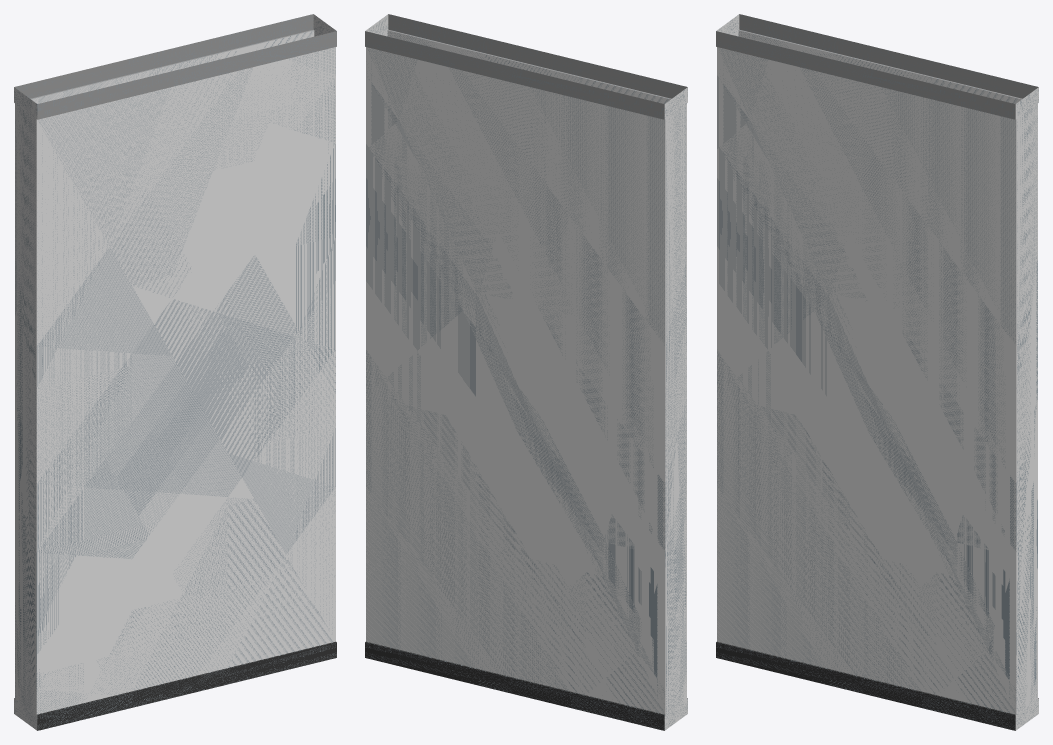
Rendered from BlockWall_ds_plinth_2x4x025.dae.
3 views of the same model, side by side, from view 1: azimuth 30°, elevation 25°; view 2: azimuth 150°, elevation 25°; view 3: azimuth 330°, elevation 25° (orthographic).
Parts seen in each view (by area): view 1: group_0 (×4); view 2: group_0 (×4); view 3: group_0 (×4).
Part boxes in pixels (x1,y1,x2,y2): group_0 (×4): (14, 14, 336, 730); group_0 (×4): (365, 14, 687, 730); group_0 (×4): (716, 14, 1038, 730).
Bounding box in the file's own units: 78.74 × 10.63 × 157.
